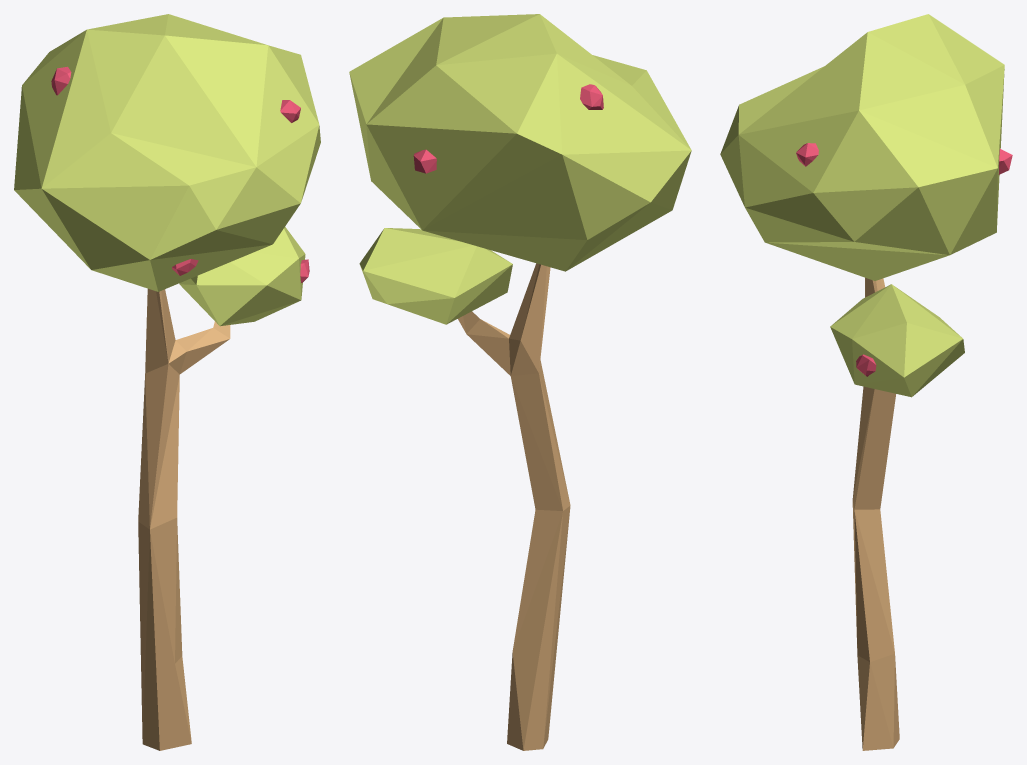
File: tree_002.fbx
3 views of the same model, side by side, from view 1: azimuth 30°, elevation 25°; view 2: azimuth 150°, elevation 25°; view 3: azimuth 270°, elevation 25° (orthographic). The views are drawn at different scales.
Parts seen in each view (by area): view 1: Tree_002_Crown_LOD0, Tree_002_LOD0, Tree_002_Berries_LOD0; view 2: Tree_002_Crown_LOD0, Tree_002_LOD0, Tree_002_Berries_LOD0; view 3: Tree_002_Crown_LOD0, Tree_002_LOD0, Tree_002_Berries_LOD0.
Boxes of the visible parts, bbox=[...] form: Tree_002_Crown_LOD0: bbox=[14, 14, 320, 326]; Tree_002_LOD0: bbox=[138, 288, 230, 750]; Tree_002_Berries_LOD0: bbox=[51, 66, 309, 282]; Tree_002_Crown_LOD0: bbox=[349, 14, 691, 324]; Tree_002_LOD0: bbox=[458, 263, 570, 750]; Tree_002_Berries_LOD0: bbox=[413, 84, 603, 173]; Tree_002_Crown_LOD0: bbox=[720, 14, 1004, 397]; Tree_002_LOD0: bbox=[852, 277, 899, 750]; Tree_002_Berries_LOD0: bbox=[796, 143, 1012, 376].
Size of what is drawn, in the model's own units: 241 by 550 by 206.
